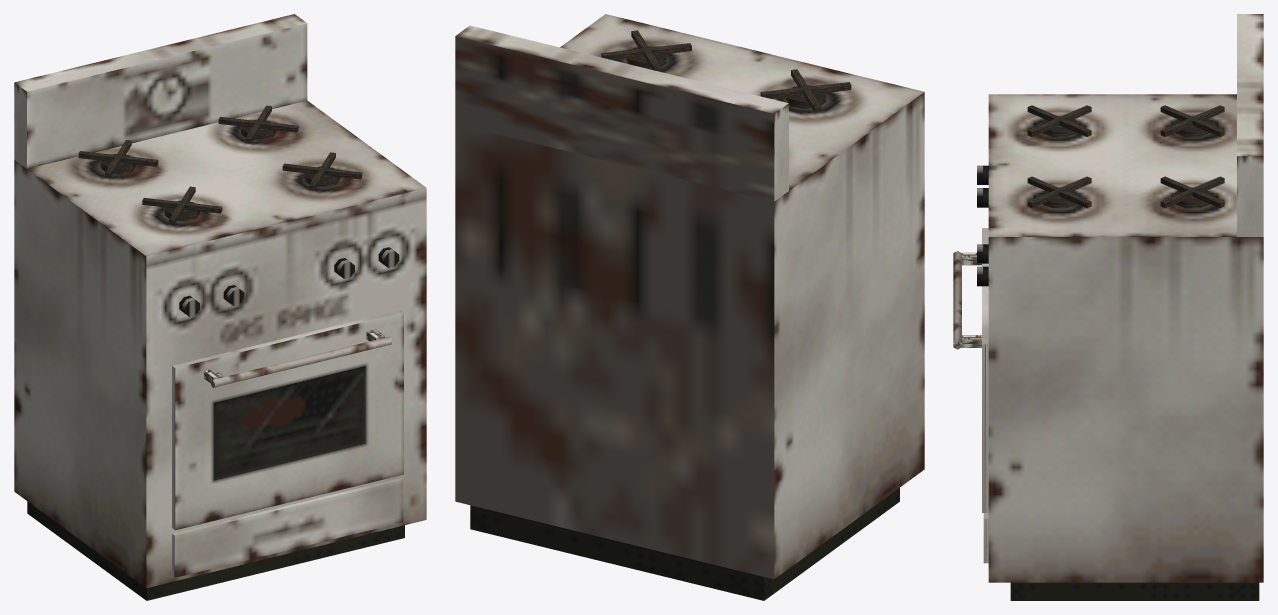
Rendered from stove_old.obj.
The picture shows the model from 3 angles, left to right: view 1: azimuth 30°, elevation 25°; view 2: azimuth 150°, elevation 25°; view 3: azimuth 270°, elevation 25°; orthographic projection. The views are drawn at different scales.
Visible parts, largest first — view 1: stove_old; view 2: stove_old; view 3: stove_old.
Boxes of the visible parts, x1,y1,x2,y2 form: stove_old: (14, 14, 426, 600); stove_old: (455, 14, 924, 600); stove_old: (953, 14, 1263, 600).
Bounding box in the file's own units: 0.76 × 1.12 × 0.6995.
Materials: 1 (1 with a texture image).
